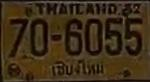0: (30, 18, 48, 55), (84, 18, 102, 55)
5: (104, 17, 122, 55), (124, 17, 142, 55)
6: (64, 18, 81, 55)
7: (9, 18, 27, 56)
CMI: (50, 57, 107, 78)
